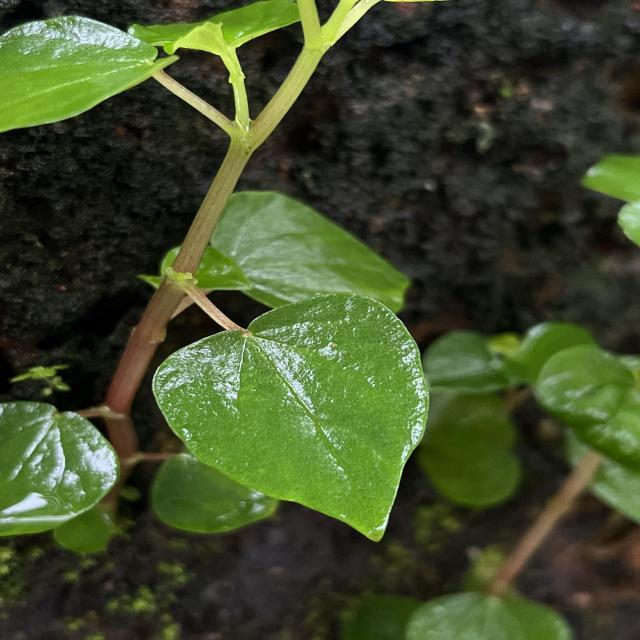Peperomia pellucida: (150, 290, 432, 546)
